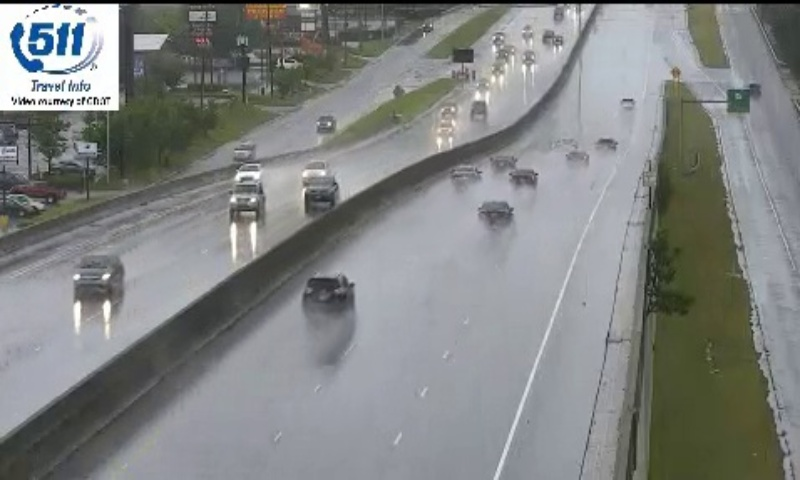car: (302, 272, 353, 312), (450, 163, 482, 188), (479, 201, 513, 223), (508, 167, 538, 190), (492, 154, 515, 173)
